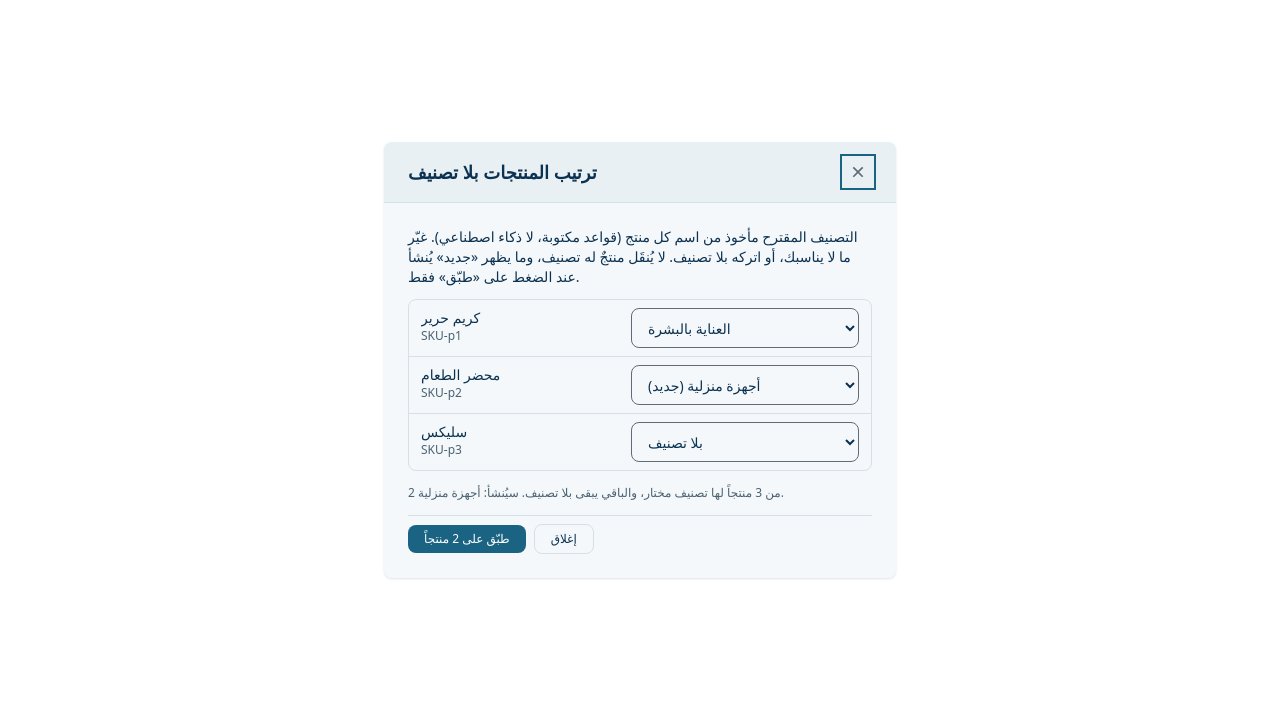
what the person sees › — and the count follows what he changes: a shelf that exists, a blank, a new one
This screenshot has width=1280, height=720.
Check: the dropdown named "تصنيف كريم حرير" is shown, box [631, 308, 859, 348]
Select "مكملات" in the dropdown named "تصنيف محضر الطعام" at [745, 385], box [631, 365, 859, 405]
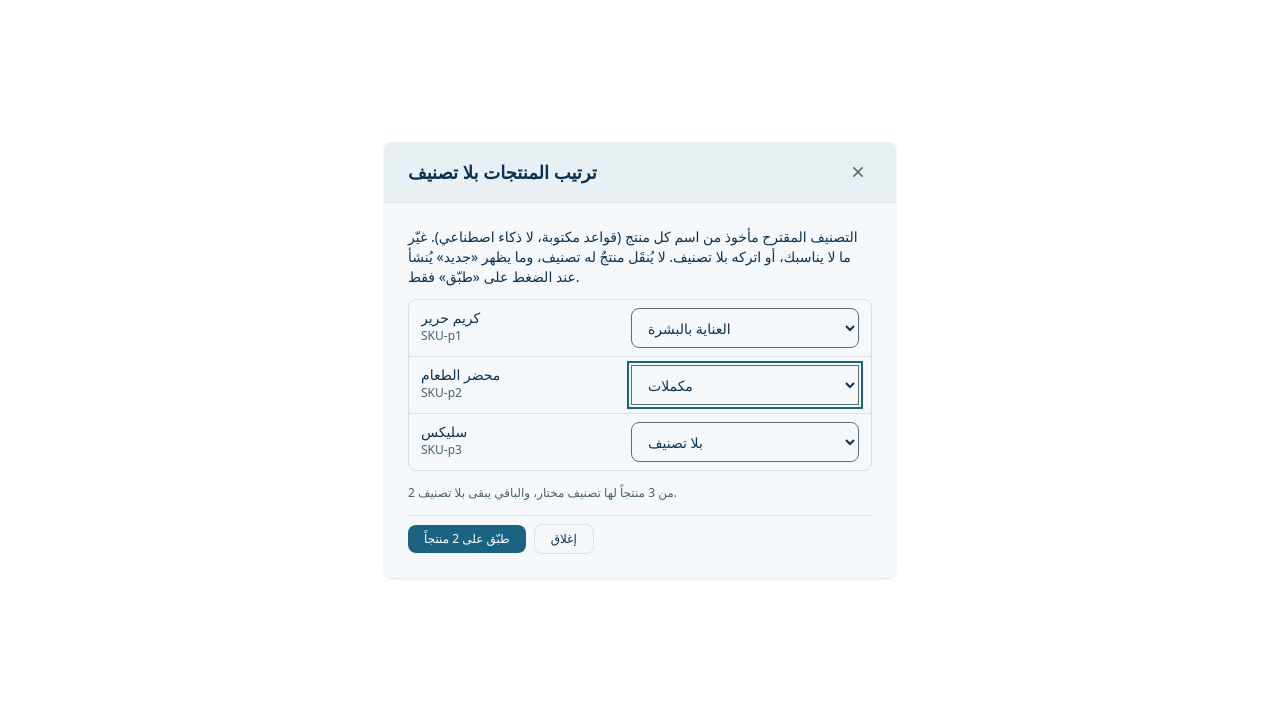
Check: the text "سيُنشأ" is gone
Select "بلا تصنيف" in the dropdown named "تصنيف كريم حرير" at [745, 328], box [631, 308, 859, 348]
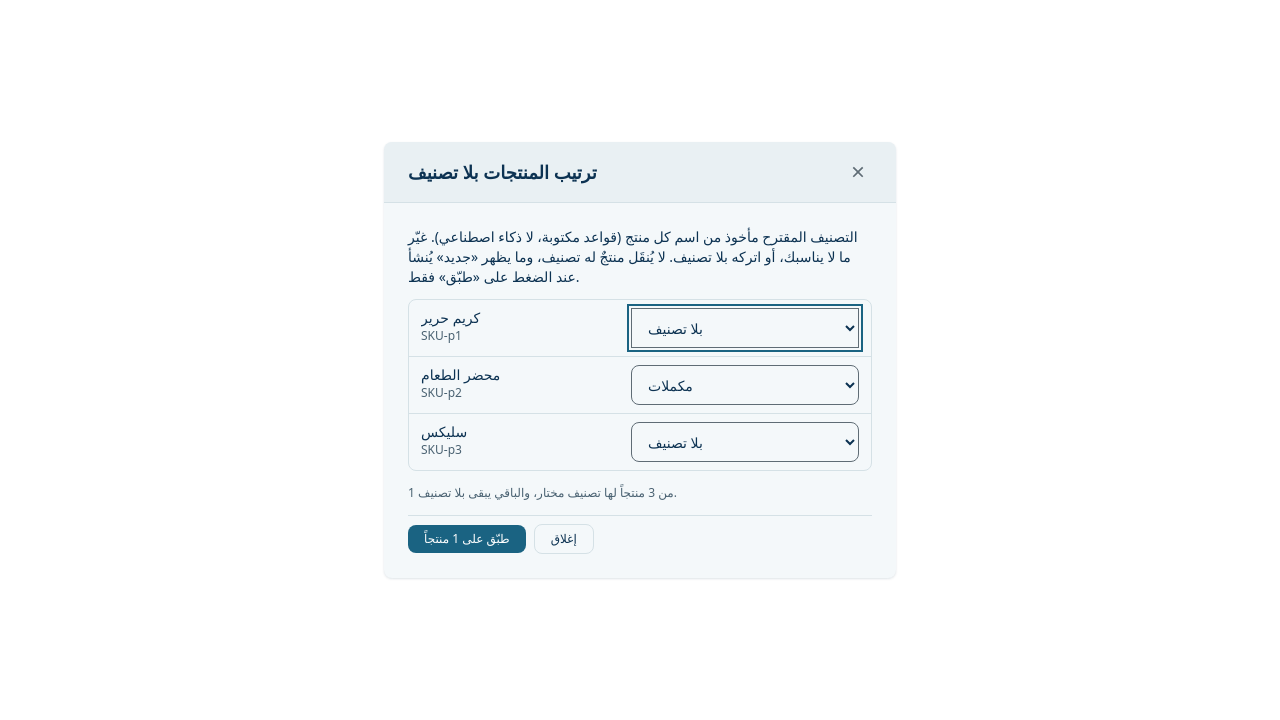
Check: the text "1 من 3 منتجاً لها تصنيف مختار، والباقي يبقى بلا تصنيف." is shown, box [408, 484, 677, 501]
Select "إلكترونيات (جديد)" in the dropdown named "تصنيف سليكس" at [745, 442], box [631, 422, 859, 462]
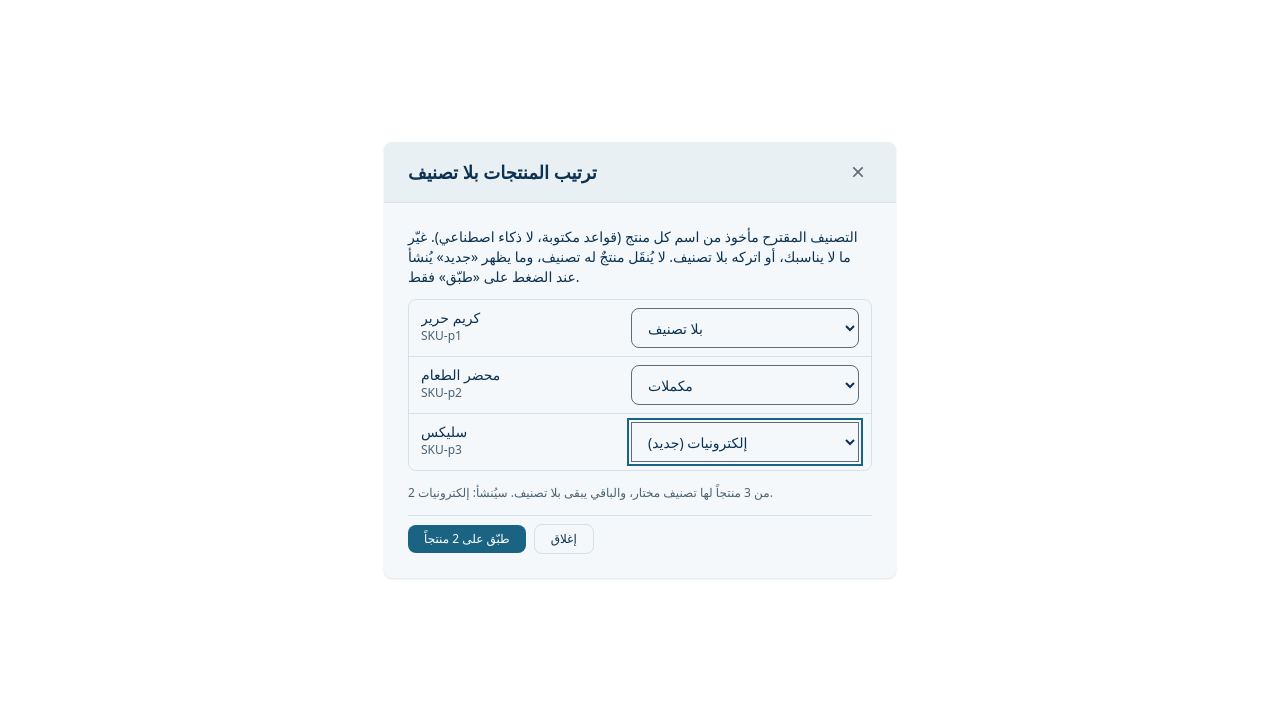
Check: the text "سيُنشأ: إلكترونيات." is shown, box [418, 484, 773, 501]
Check: the button "طبّق على 2 منتجاً" is shown, box [408, 525, 526, 553]
